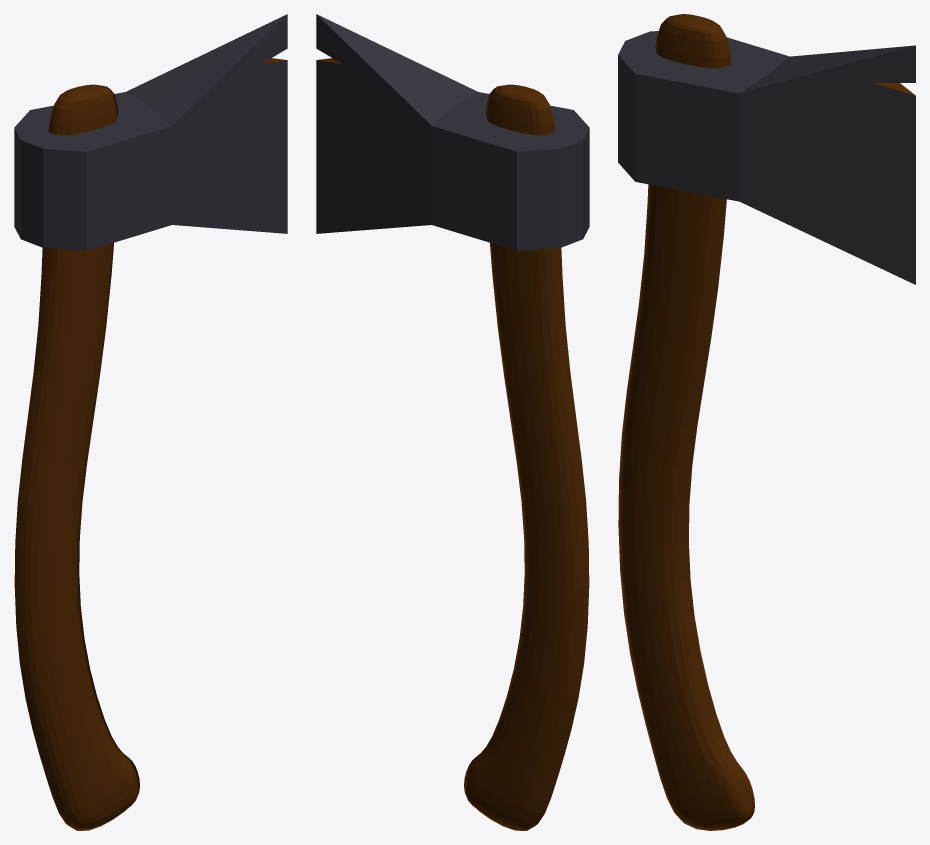
File: Axe.fbx
3 renders of one model, left to right at view 1: azimuth 30°, elevation 25°; view 2: azimuth 150°, elevation 25°; view 3: azimuth 330°, elevation 25°, orthographic. The views are drawn at different scales.
Visible parts, largest first — view 1: Axe.001, Axe; view 2: Axe.001, Axe; view 3: Axe.001, Axe.
Boxes of the visible parts, x1,y1,x2,y2 form: Axe.001: [14, 84, 139, 830]; Axe: [14, 14, 287, 250]; Axe.001: [464, 84, 589, 830]; Axe: [316, 14, 589, 250]; Axe.001: [618, 14, 754, 830]; Axe: [618, 31, 915, 284].
Size of the model in its own units: 574 by 1547 by 208.
